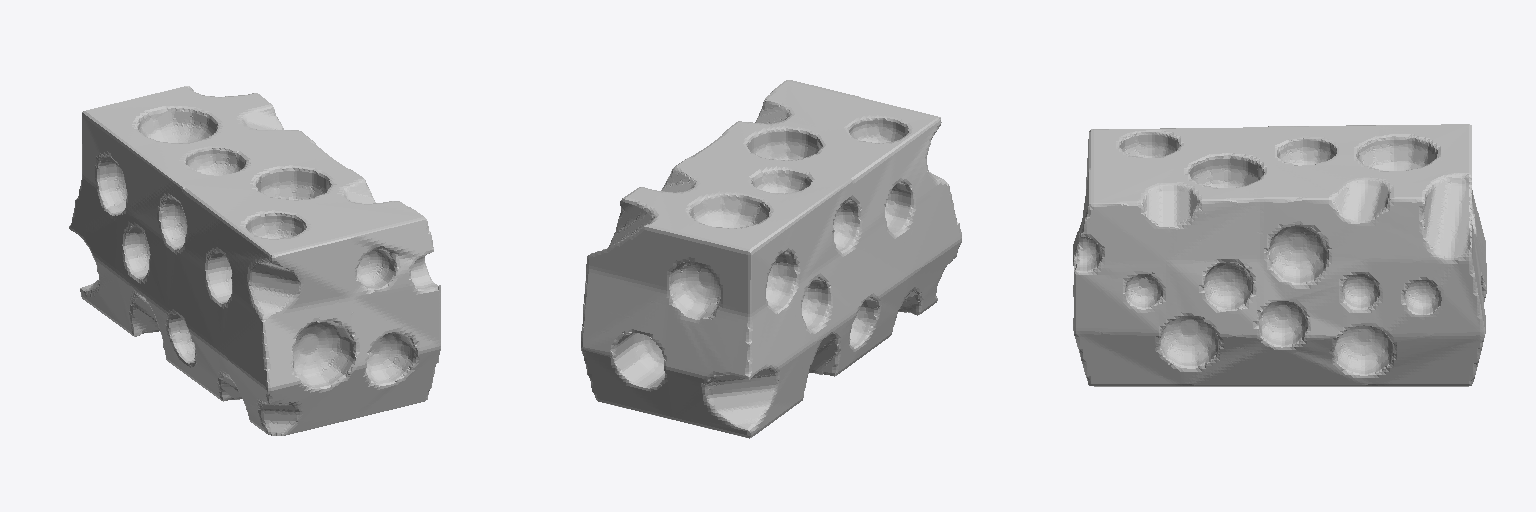
The model's file is uploads_files_3220918_Cheese.obj.
3 renders of one model, left to right at view 1: azimuth 30°, elevation 25°; view 2: azimuth 150°, elevation 25°; view 3: azimuth 270°, elevation 25°, orthographic.
Parts seen in each view (by area): view 1: Cube.003; view 2: Cube.003; view 3: Cube.003.
Boxes of the visible parts, <box> form: Cube.003: <box>69,86,440,435</box>; Cube.003: <box>581,80,961,438</box>; Cube.003: <box>1073,124,1486,386</box>.
Bounding box in the file's own units: 2.06 × 2.03 × 4.03.